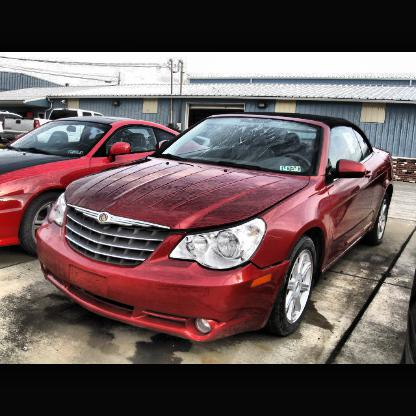Chrysler Sebring Convertible 2010: (37, 113, 396, 343)
